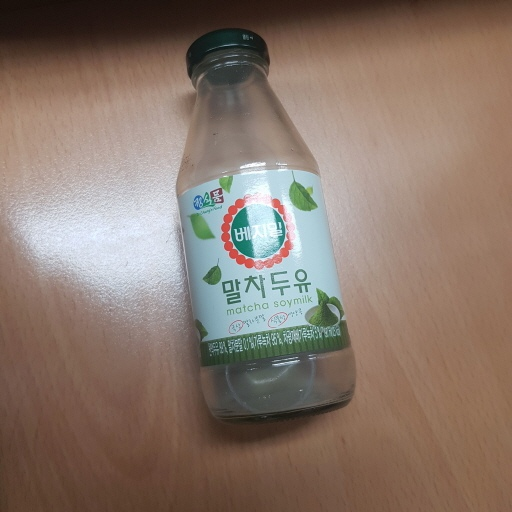Glass_4: (163, 31, 358, 426)
